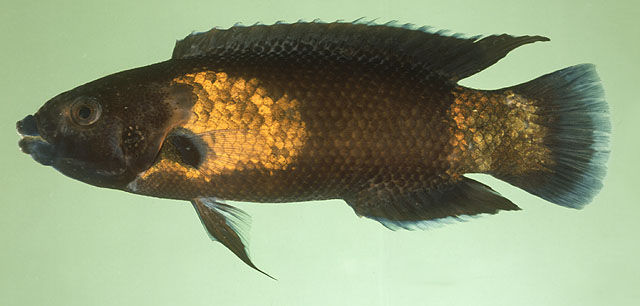fish: (15, 15, 615, 281)
